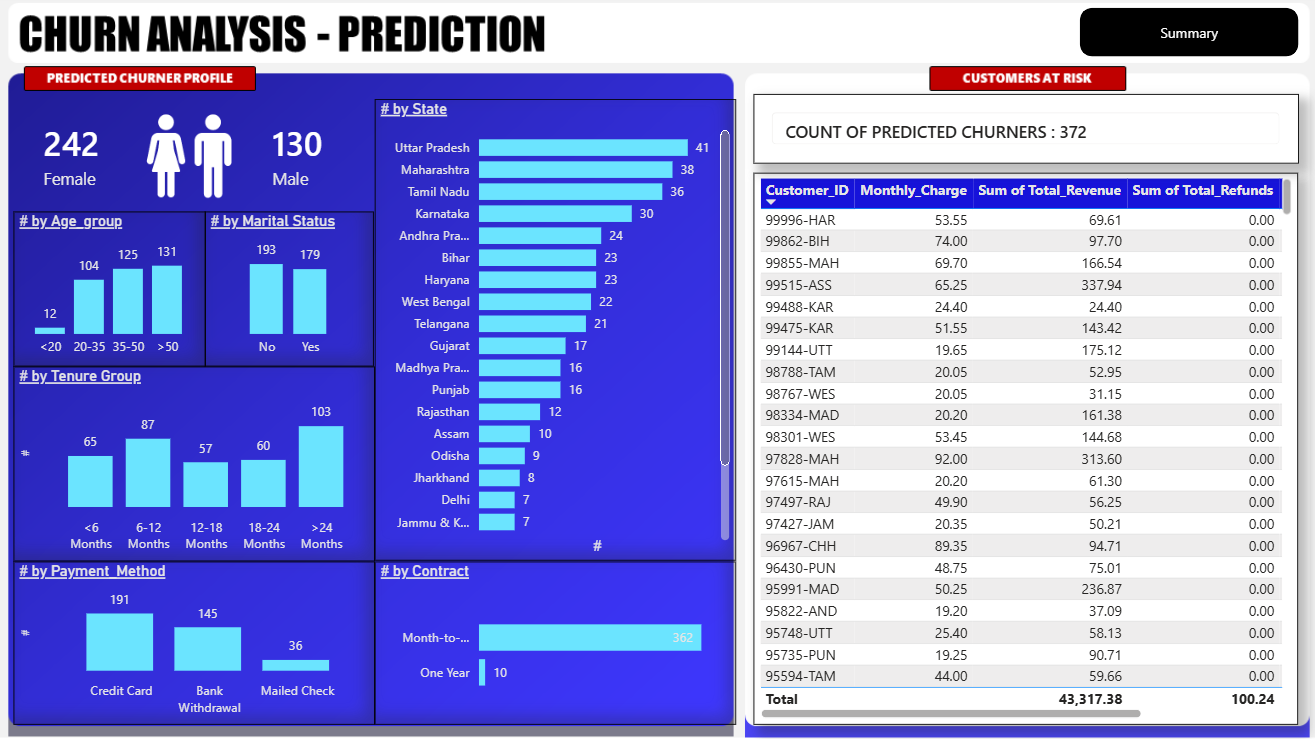

The dashboard page shown, as its layout file describes it:
{"tool":"powerbi","page":{"name":"Churn_Prediction","canvas":[1280,720],"ordinal":2},"visuals":[{"type":"tableEx","fields":{"Values":["predicted.Customer_ID","predicted.Monthly_Charge","Sum(predicted.Total_Revenue)","Sum(predicted.Total_Refunds)","Sum(predicted.Number_of_Referrals)"]},"box":[731.4,172.9,525.6,532.4],"z":0},{"type":"cardVisual","fields":{"Data":["Tbl_Measure.Title Predicted Churner"]},"box":[731.1,96.5,526,67.6],"z":1000},{"type":"cardVisual","fields":{"Data":["Tbl_Measure.Count Predicted Churner"]},"box":[16.5,101.5,118,108.4],"z":2000},{"type":"cardVisual","fields":{"Data":["Tbl_Measure.Count Predicted Churner"]},"box":[237.4,101.5,127.6,108.4],"z":3000},{"type":"clusteredColumnChart","fields":{"Category":["mapping_age_grp.Age_group"],"Y":["CountNonNull(predicted.Customer_ID)"]},"box":[16.5,209.9,185.2,149.6],"z":4000},{"type":"clusteredColumnChart","fields":{"Y":["CountNonNull(predicted.Customer_ID)"],"Category":["predicted.Married"]},"box":[201.7,209.9,163.3,149.6],"z":5000},{"type":"clusteredColumnChart","fields":{"Y":["CountNonNull(predicted.Customer_ID)"],"Category":["mapping_tenuregrp.Tenure_age_grp"]},"box":[16.5,359.5,348.5,188],"z":6000},{"type":"clusteredColumnChart","fields":{"Y":["CountNonNull(predicted.Customer_ID)"],"Category":["predicted.Payment_Method"]},"box":[16.5,547.5,348.5,157.8],"z":7000},{"type":"clusteredBarChart","fields":{"Category":["predicted.Contract"],"Y":["CountNonNull(predicted.Customer_ID)"]},"box":[365,547.5,348.5,157.8],"z":8000},{"type":"clusteredBarChart","fields":{"Y":["CountNonNull(predicted.Customer_ID)"],"Category":["predicted.State"]},"box":[365,101.5,348.5,446],"z":9000},{"type":"image","box":[134.7,101.3,102.5,108.6],"z":10000},{"type":"shape","box":[1046,13.3,211.1,47.1],"z":11000}]}

Visuals, with their boxes in screenshot pixels (x1, y1, x2, y2), scaled from the page's 1280x720 canvas onto the 1315x739 screenshot:
tableEx - predicted.Customer_ID x predicted.Monthly_Charge: <box>751,177,1291,724</box>
cardVisual - Tbl_Measure.Title Predicted Churner: <box>751,99,1291,168</box>
cardVisual - Tbl_Measure.Count Predicted Churner: <box>17,104,138,215</box>
cardVisual - Tbl_Measure.Count Predicted Churner: <box>244,104,375,215</box>
clusteredColumnChart - mapping_age_grp.Age_group x CountNonNull(predicted.Customer_ID): <box>17,215,207,369</box>
clusteredColumnChart - CountNonNull(predicted.Customer_ID) x predicted.Married: <box>207,215,375,369</box>
clusteredColumnChart - CountNonNull(predicted.Customer_ID) x mapping_tenuregrp.Tenure_age_grp: <box>17,369,375,562</box>
clusteredColumnChart - CountNonNull(predicted.Customer_ID) x predicted.Payment_Method: <box>17,562,375,724</box>
clusteredBarChart - predicted.Contract x CountNonNull(predicted.Customer_ID): <box>375,562,733,724</box>
clusteredBarChart - CountNonNull(predicted.Customer_ID) x predicted.State: <box>375,104,733,562</box>
image: <box>138,104,244,215</box>
shape: <box>1075,14,1291,62</box>
